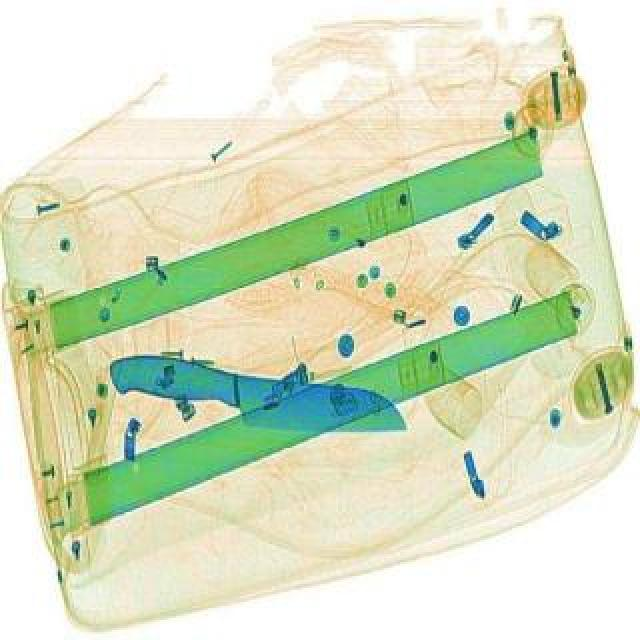knife: (104, 352, 412, 456)
